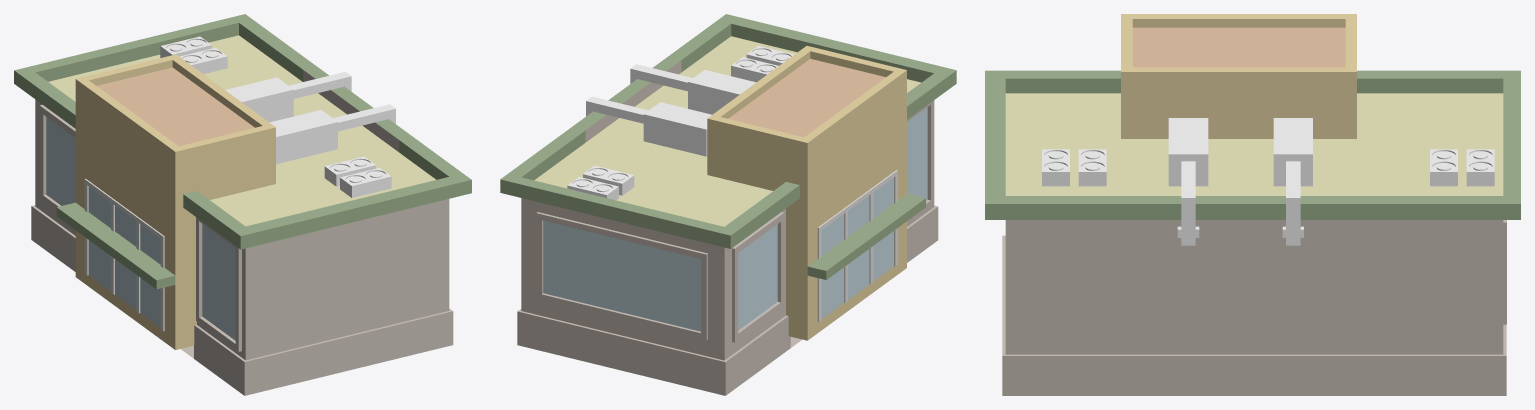
Rendered from store.glb.
3 renders of one model, left to right at view 1: azimuth 30°, elevation 25°; view 2: azimuth 150°, elevation 25°; view 3: azimuth 270°, elevation 25°, orthographic. The views are drawn at different scales.
Parts seen in each view (by area): view 1: Store; view 2: Store; view 3: Store.
Boxes of the visible parts, bbox=[...] form: Store: bbox=[14, 14, 471, 395]; Store: bbox=[500, 14, 956, 395]; Store: bbox=[985, 14, 1520, 395].
Size of the model in its own units: 8.11 by 6.2 by 12.
